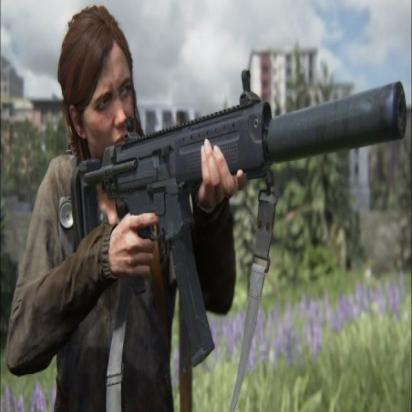Gun: (71, 63, 411, 368)
